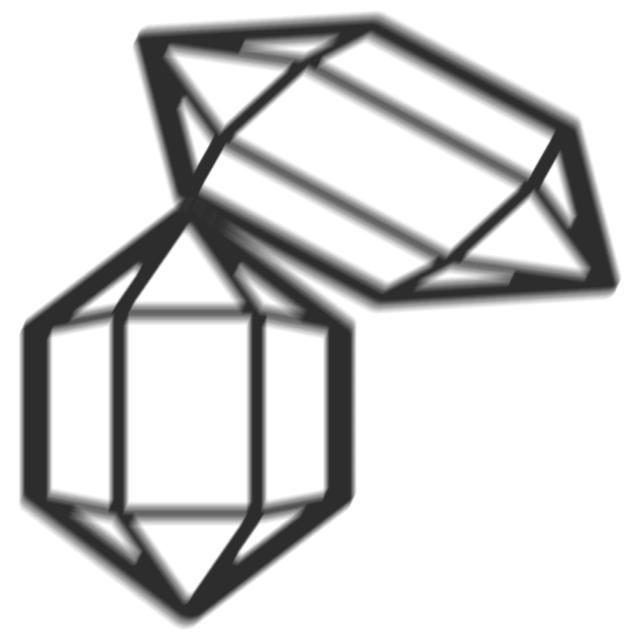crystal: (119, 3, 634, 335), (11, 192, 375, 635)
